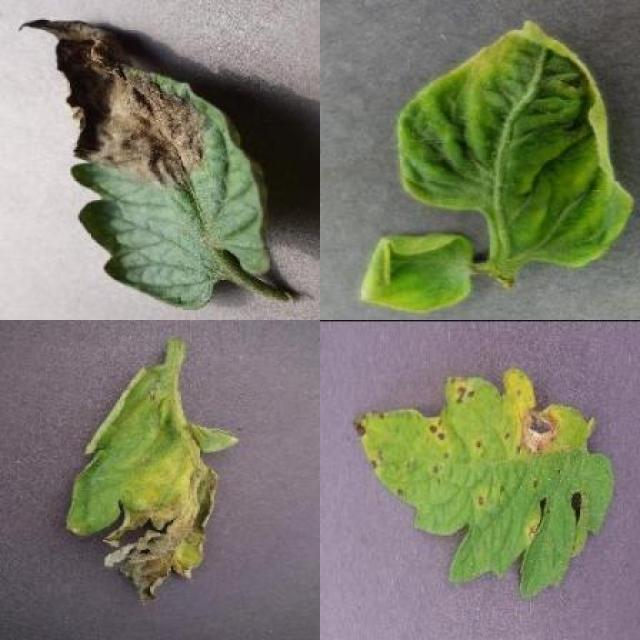Late Blight: (20, 17, 274, 310), (64, 362, 239, 607)
Septoria: (352, 368, 615, 598)
Yellow Leaf Curl Virus: (395, 20, 635, 267), (359, 234, 474, 312)
